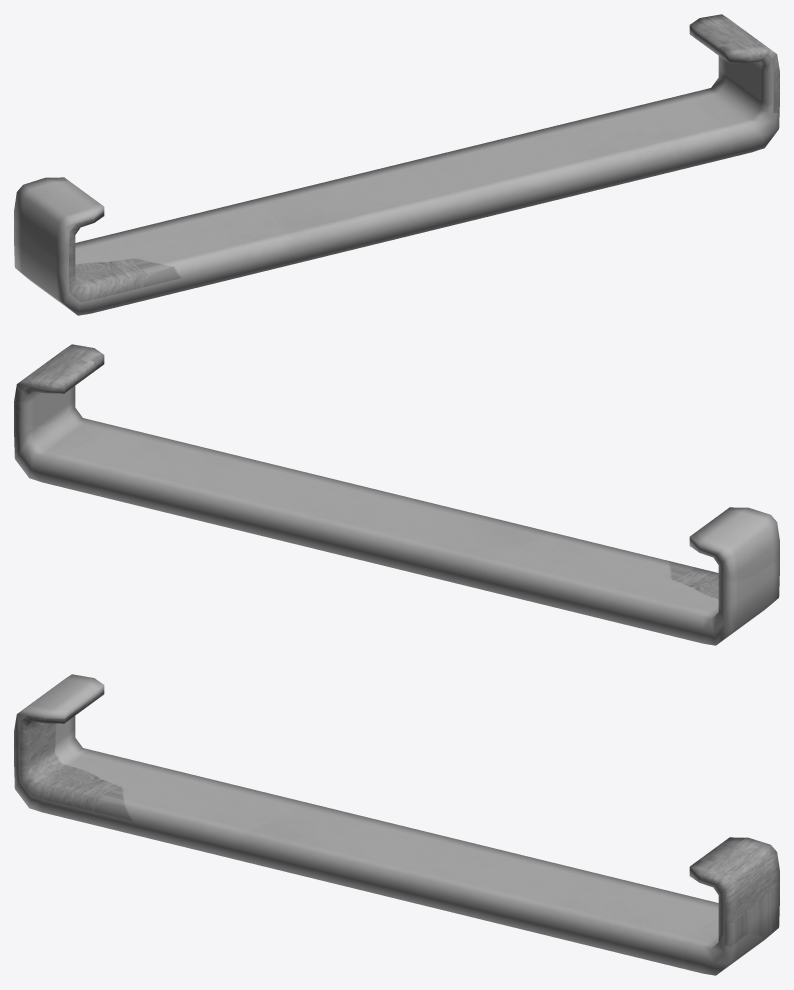
Rendered from retractor.fbx.
3 renders of one model, top to bottom at view 1: azimuth 30°, elevation 25°; view 2: azimuth 150°, elevation 25°; view 3: azimuth 330°, elevation 25°, orthographic.
Parts seen in each view (by area): view 1: retractor.001; view 2: retractor.001; view 3: retractor.001.
Part boxes in pixels (x1,y1,x2,y2): retractor.001: [14, 14, 779, 315]; retractor.001: [14, 344, 779, 645]; retractor.001: [14, 674, 779, 975].
Bounding box in the file's own units: 1685 × 223 × 199.
